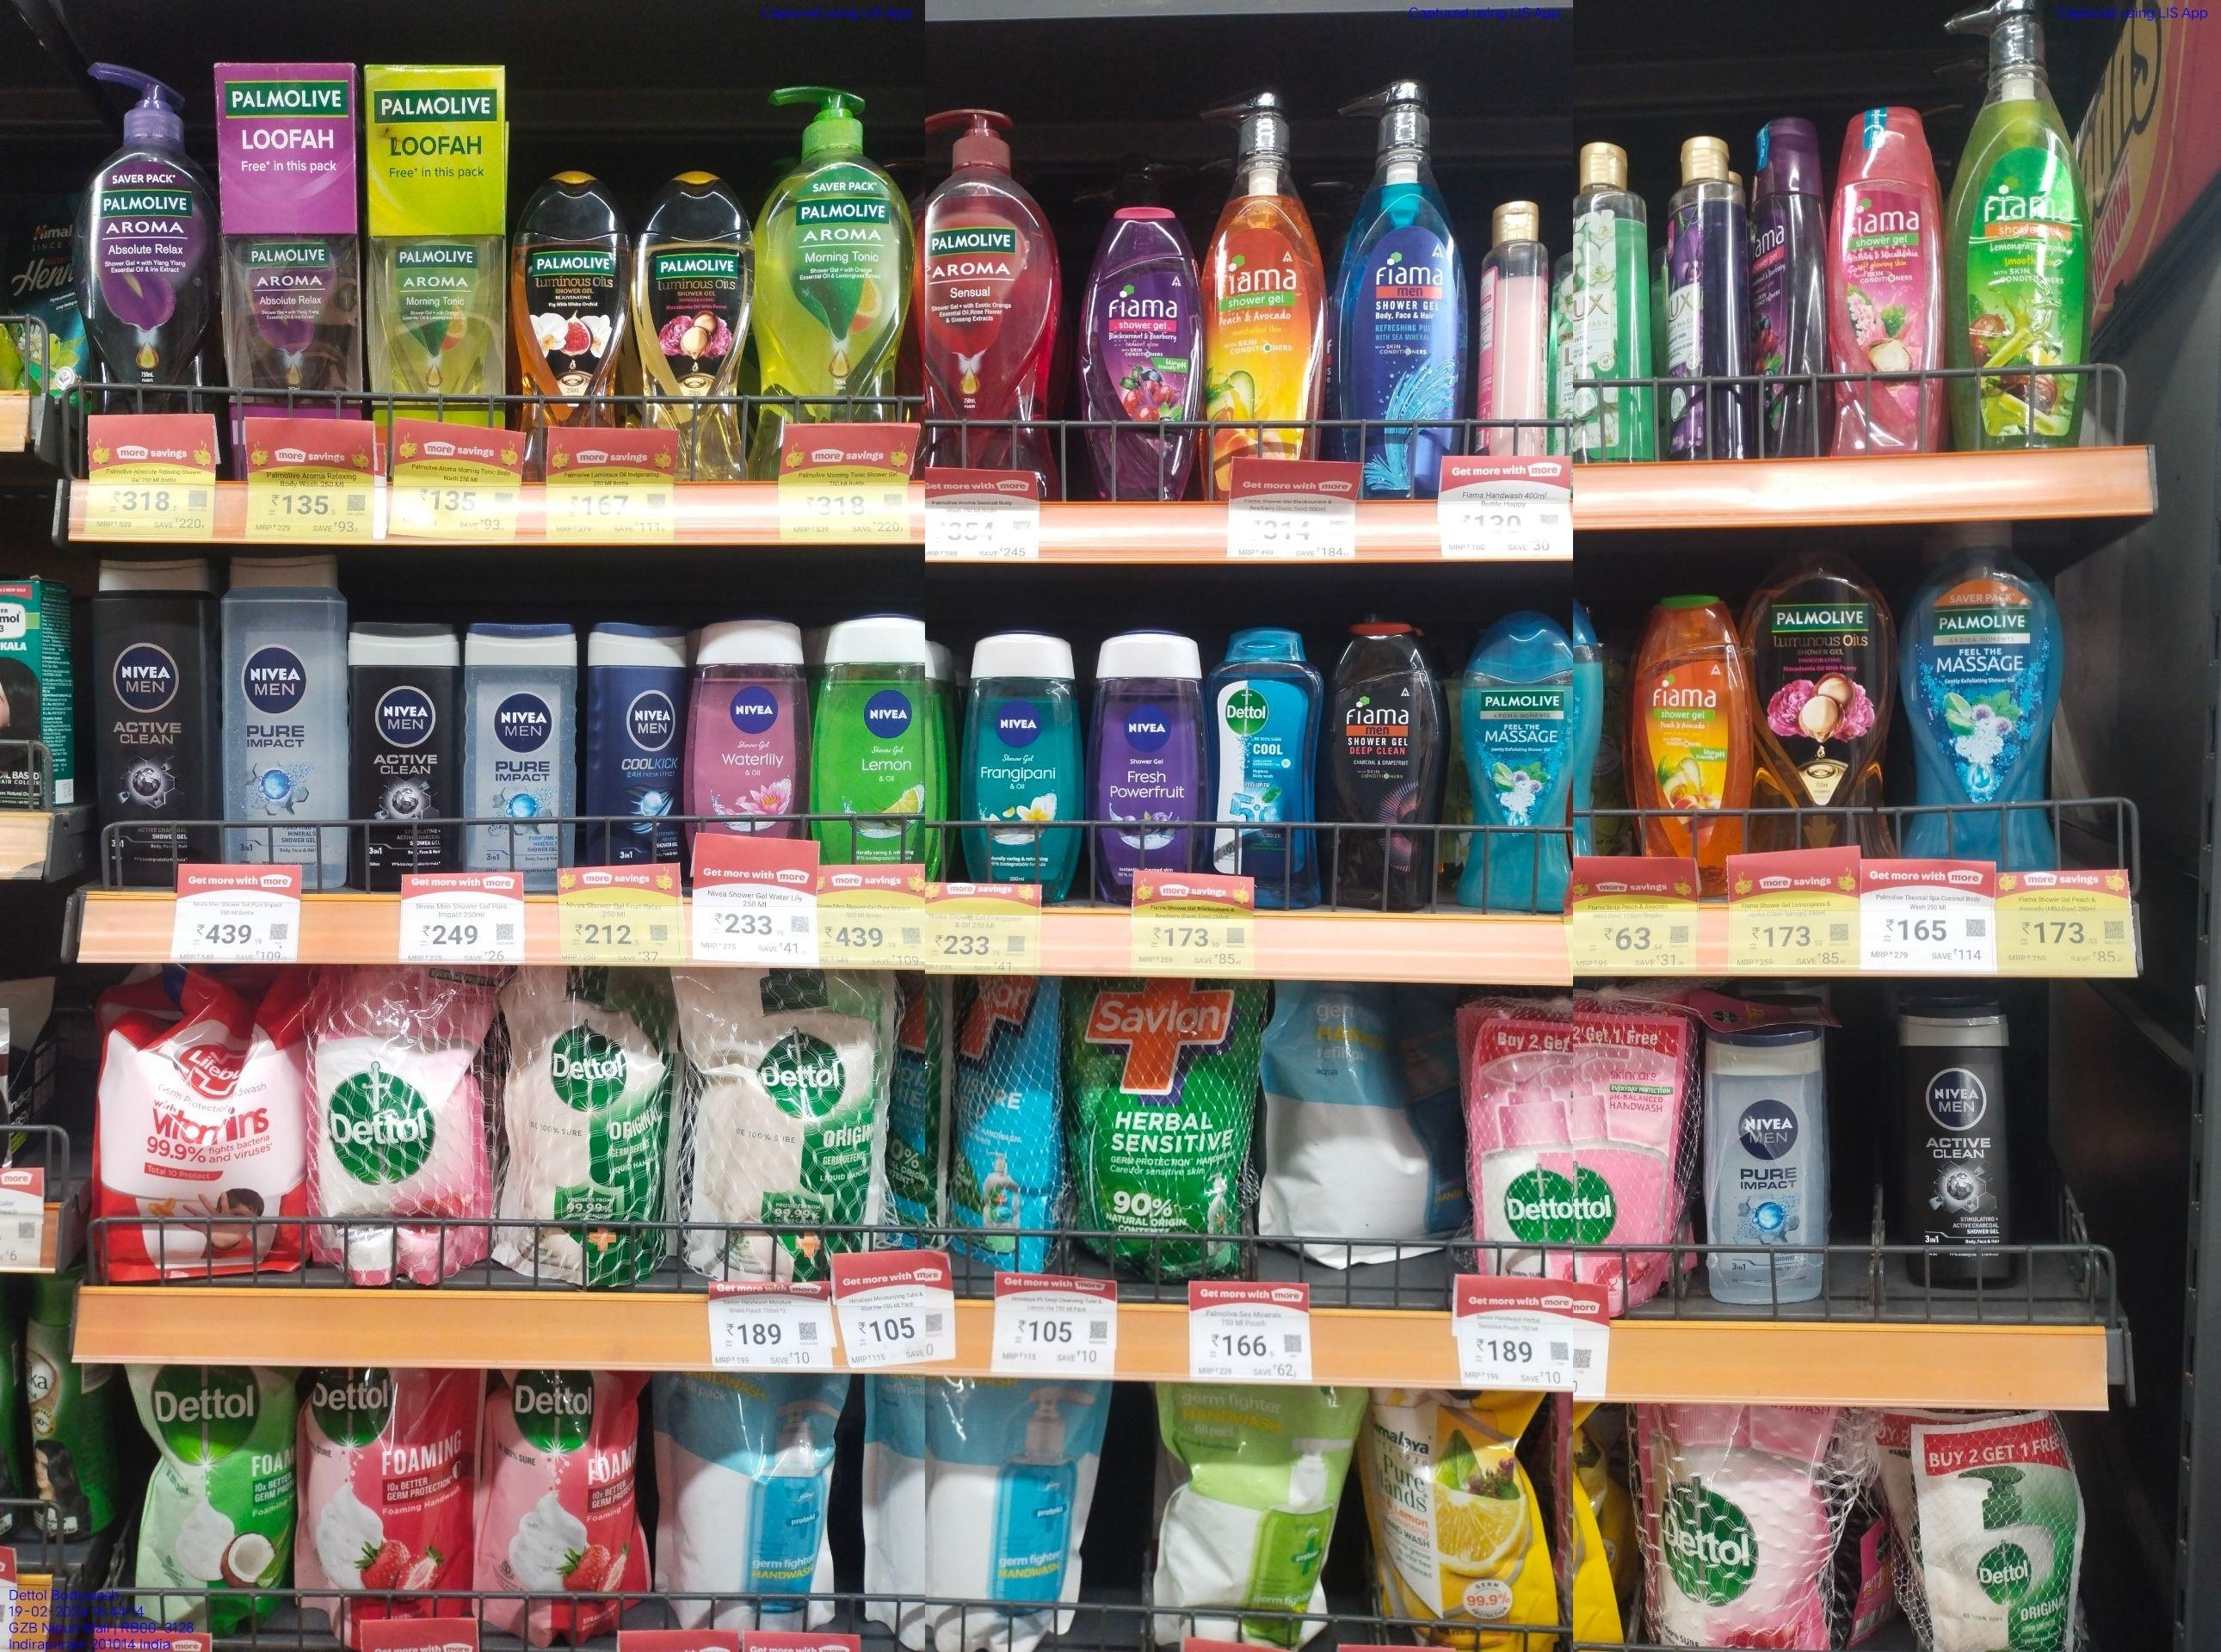Dettol_Bodywash_Cool: (1206, 623, 1322, 908)
Fiama_Shower_Gel_Peach_and_Avocado_250ML: (1629, 592, 1749, 854)
Nivea_Shower_Gel_Frangipani_and_Oil_250ML: (958, 625, 1084, 883)
Nivea_Shower_Gel_Fresh_Powerfruit_250ML: (1083, 623, 1202, 908)
Nivea_Shower_Gel_Waterlily_and_Oil_250ML: (680, 607, 810, 836)
Palmolive_Aroma_Moments_Feel_The_Massage_Shower_Gel_250ML: (1454, 607, 1570, 909)
Palmolive_Luminous_Oils_Invigorating_Macadamia_Oil_With_Peony_250ML: (633, 167, 755, 427)
Palmolive_Luminous_Oils_With_White_Orchid_Shower_Gel_250ML: (507, 165, 635, 427)
